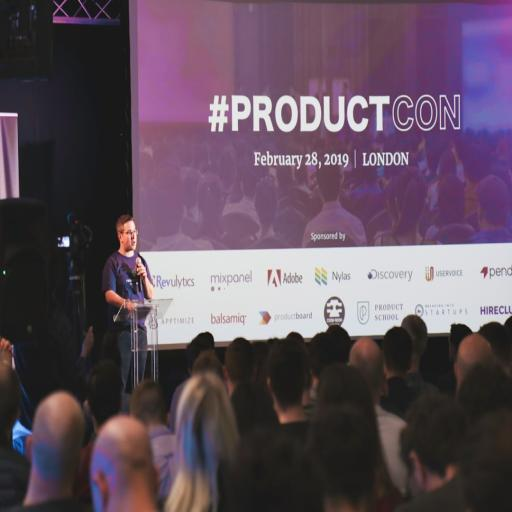face: (116, 215, 145, 254)
